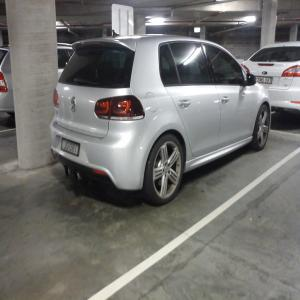Vehicle-registration-plate: (62, 138, 82, 157), (257, 77, 275, 86)
